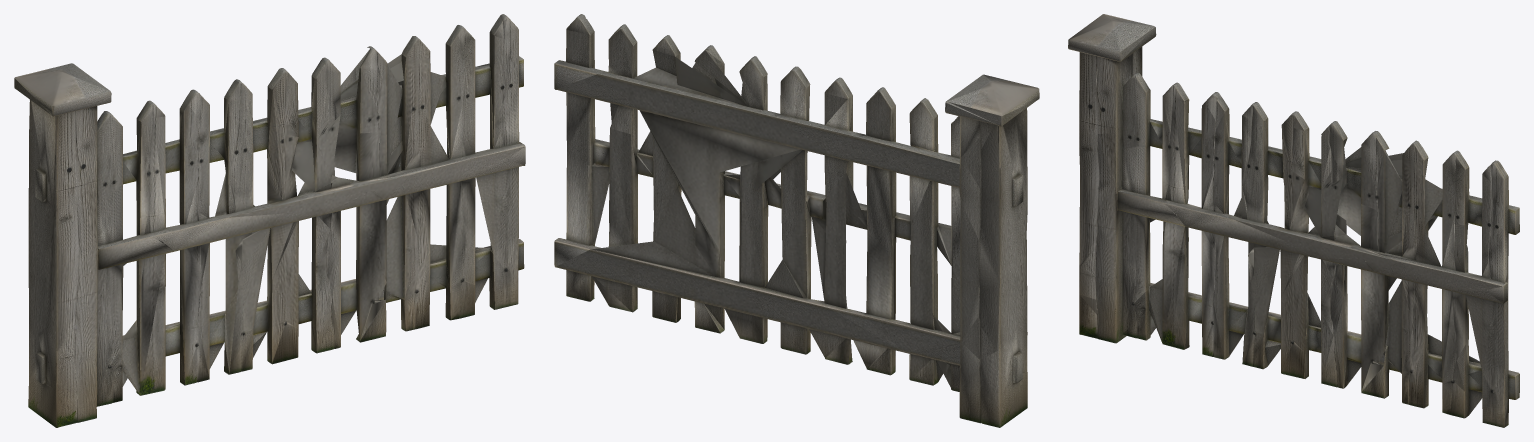
Rendered from Fence.fbx.
The picture shows the model from 3 angles, left to right: view 1: azimuth 30°, elevation 25°; view 2: azimuth 150°, elevation 25°; view 3: azimuth 330°, elevation 25°; orthographic projection. The views are drawn at different scales.
Parts seen in each view (by area): view 1: Mesh_0; view 2: Mesh_0; view 3: Mesh_0.
Boxes of the visible parts, left/top/right/bottom form: Mesh_0: left=14, top=14, right=525, bottom=427; Mesh_0: left=554, top=14, right=1039, bottom=427; Mesh_0: left=1068, top=14, right=1519, bottom=427.
Bounding box in the file's own units: 190 × 128 × 27.02.
1 material, 1 textured.
